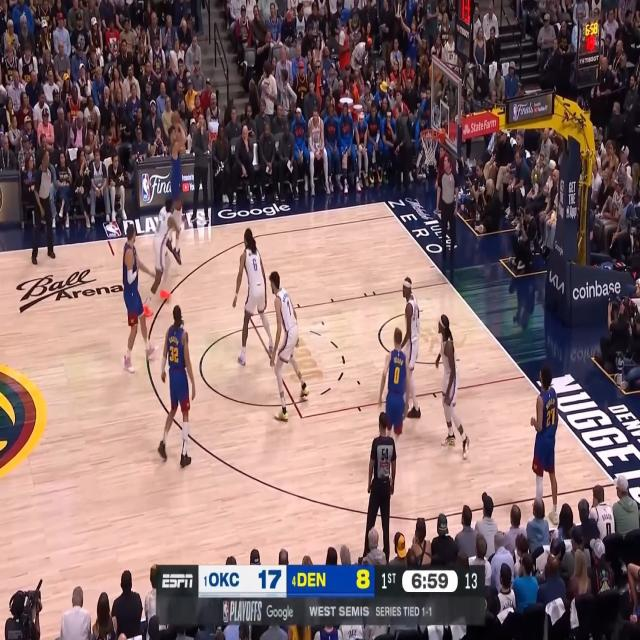ball: (170, 109, 181, 127)
number: (546, 406, 556, 429), (168, 345, 180, 364), (286, 298, 293, 318), (394, 364, 399, 383), (253, 257, 258, 273)
player: (157, 302, 196, 468), (268, 270, 310, 423), (233, 228, 276, 366), (122, 222, 158, 374), (529, 362, 561, 527), (436, 314, 470, 461), (142, 197, 180, 318), (378, 326, 411, 460), (399, 274, 422, 420)
player-jump-shot: (165, 110, 189, 266)
referee: (361, 410, 398, 562), (30, 149, 58, 267), (434, 154, 459, 266)
rim: (419, 129, 440, 140)
